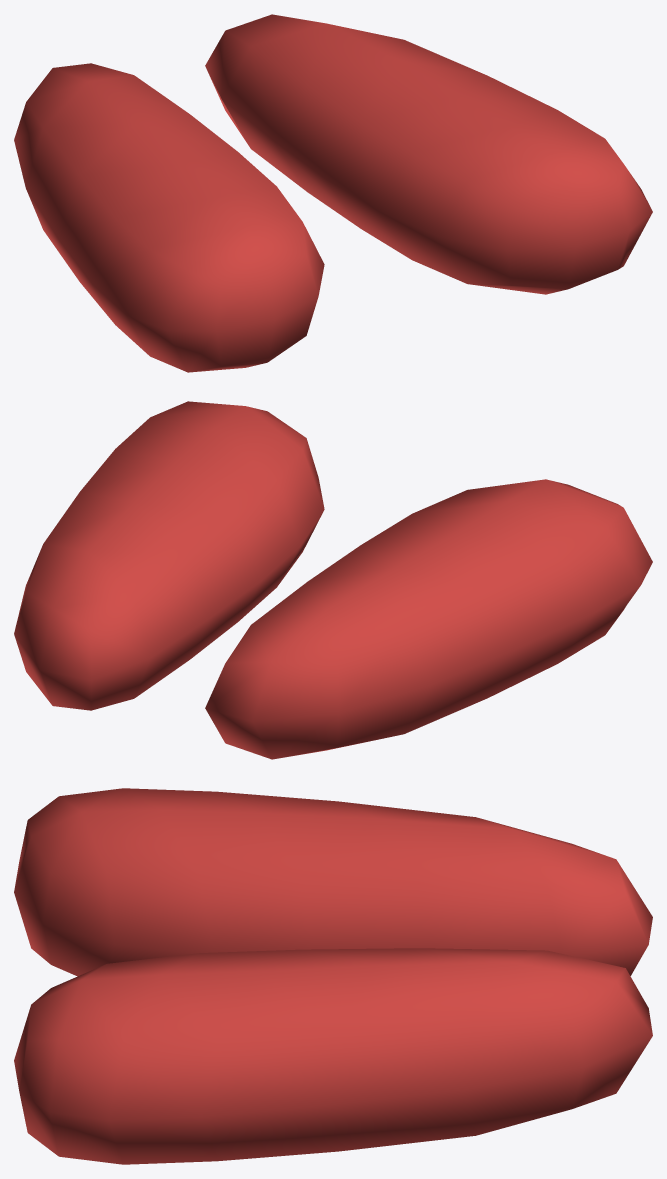
File: LUNGS.fbx
3 renders of one model, top to bottom at view 1: azimuth 30°, elevation 25°; view 2: azimuth 150°, elevation 25°; view 3: azimuth 270°, elevation 25°, orthographic. The views are drawn at different scales.
Parts seen in each view (by area): view 1: LUNGS; view 2: LUNGS; view 3: LUNGS.
Part boxes in pixels (x1,y1,x2,y2): LUNGS: [14, 14, 652, 372]; LUNGS: [14, 401, 652, 759]; LUNGS: [14, 788, 652, 1164].
Bounding box in the file's own units: 438 × 119 × 411.
